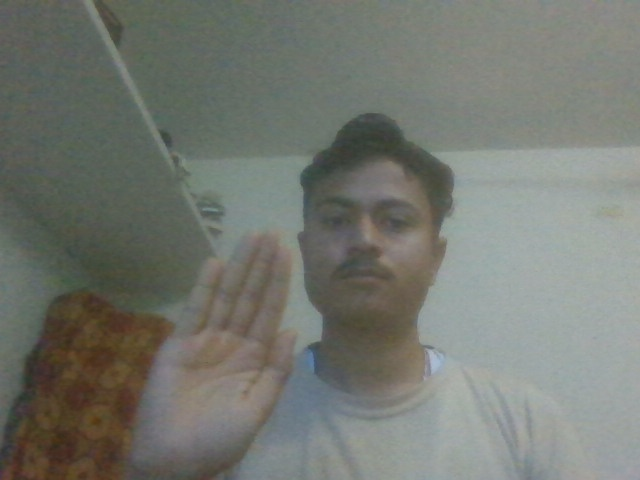Hello: (116, 220, 306, 480)
